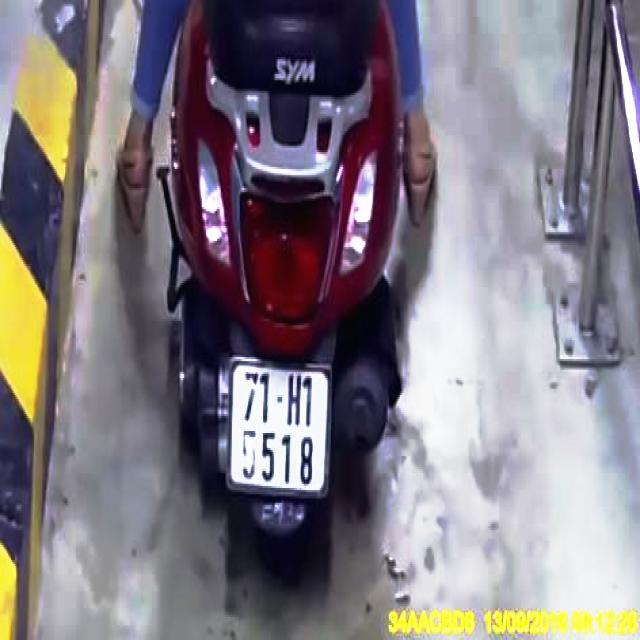license_plate: (231, 362, 329, 493)
